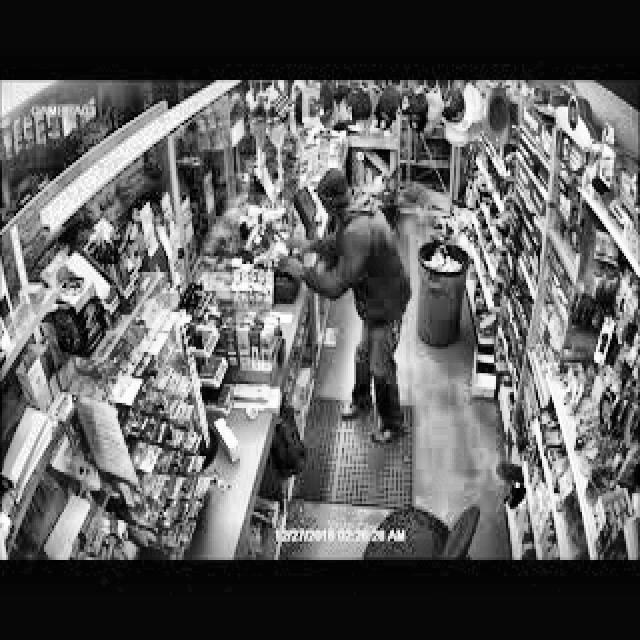burglary: (263, 160, 419, 450)
